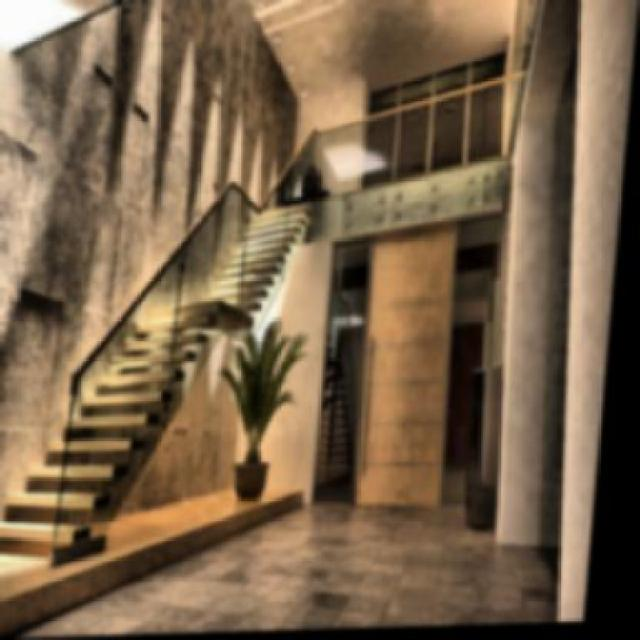stair: (0, 311, 222, 575)
